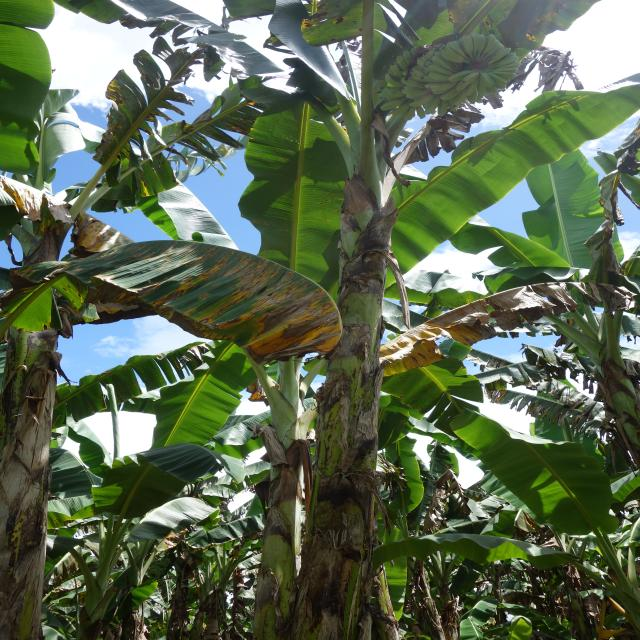Banana-plant: (308, 112, 432, 640), (0, 210, 69, 640)
